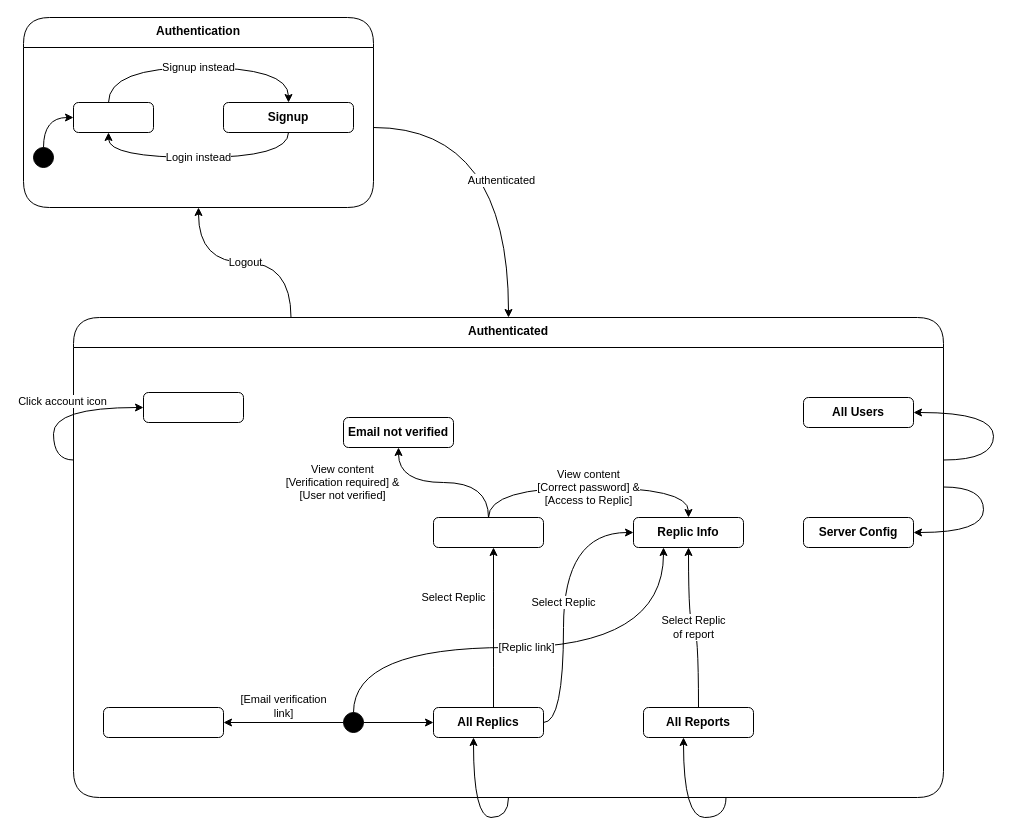
Image size: 1011x835. Some labels were removed from this diagram. Each missing label, with the centre of its shape:
"Account" goes at point 193,407.
"Email Verification" goes at point 163,722.
"Login" goes at point 113,117.
"Replic Content" goes at point 488,532.
